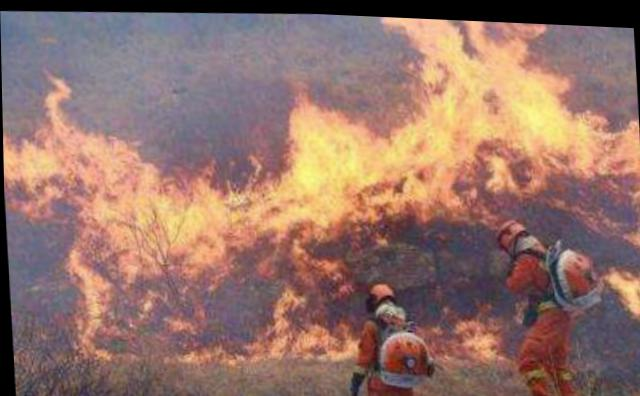fire: (0, 0, 639, 393)
